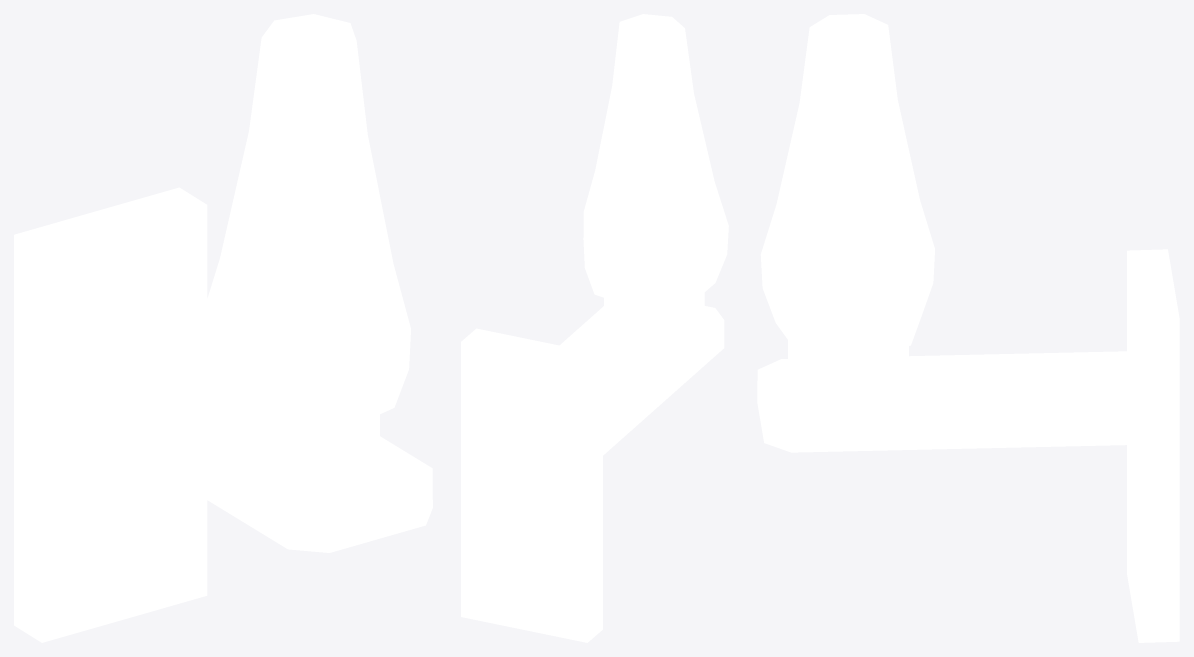
The model's file is wall_lamp.glb.
The picture shows the model from 3 angles, left to right: view 1: azimuth 30°, elevation 25°; view 2: azimuth 150°, elevation 25°; view 3: azimuth 270°, elevation 25°; orthographic projection. The views are drawn at different scales.
Visible parts, largest first — view 1: defaultMaterial.021; view 2: defaultMaterial.021; view 3: defaultMaterial.021.
Boxes of the visible parts, bbox=[...] form: defaultMaterial.021: bbox=[14, 14, 432, 642]; defaultMaterial.021: bbox=[461, 14, 728, 642]; defaultMaterial.021: bbox=[757, 14, 1179, 642].
Bounding box in the file's own units: 0.1201 × 0.4175 × 0.2737.
Materials: 1 (1 with a texture image).
